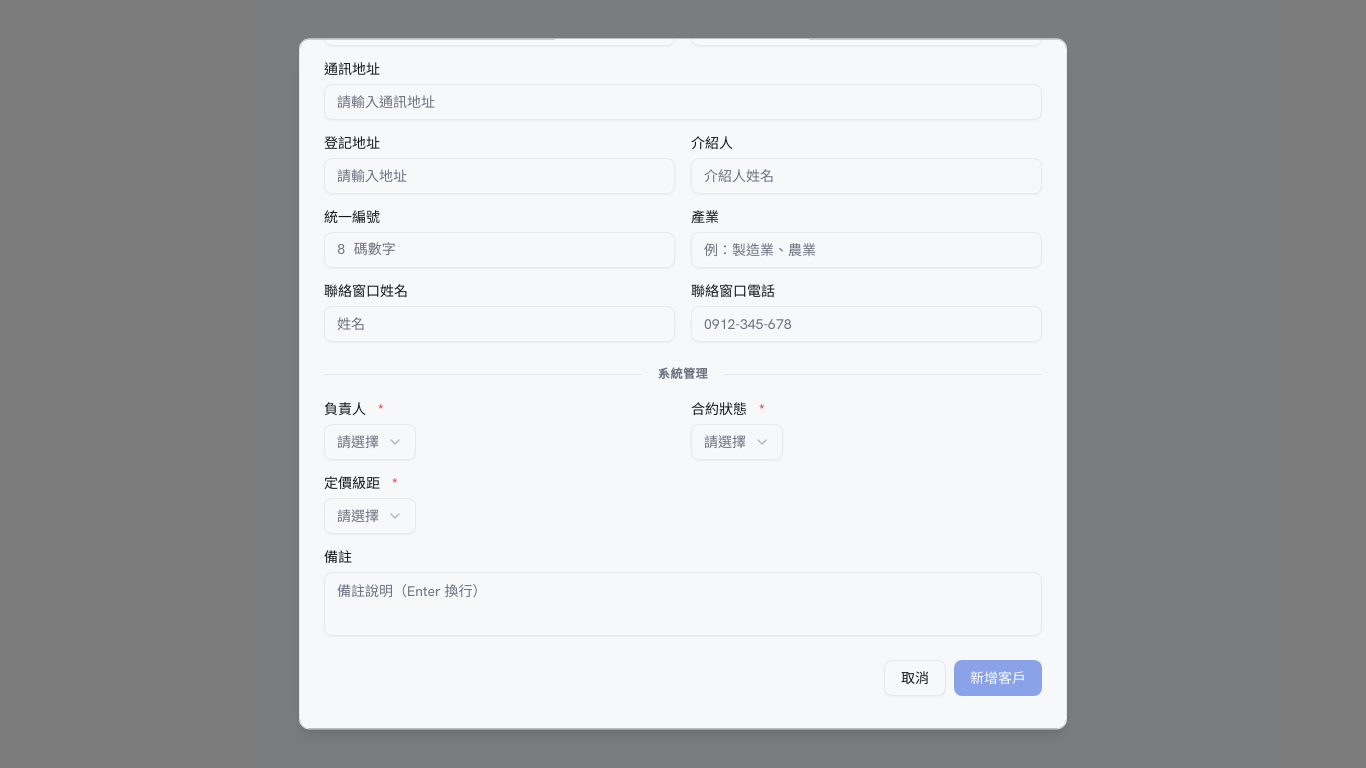
Test: CustomerModal 的必填判斷 › 剛開啟時四項必填全缺，tooltip 逐項列出
(page scrolled)
Hover over the element with test id "customer-modal-submit-wrap" at x=998, y=679, box 954,661 -> 1042,697
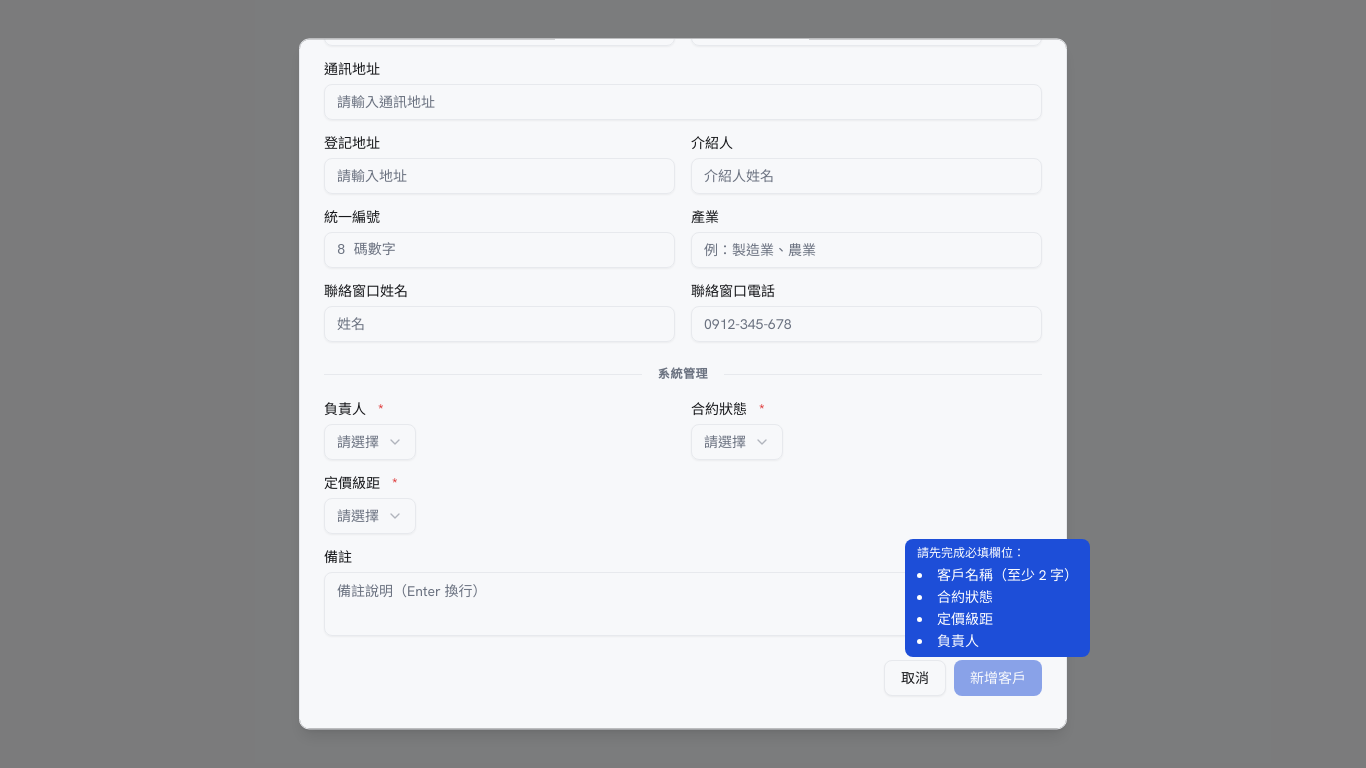
Expected: the tooltip shows "客戶名稱", 937,566 -> 1078,584
Expected: the tooltip shows "合約狀態", 937,588 -> 993,606
Expected: the tooltip shows "定價級距", 937,610 -> 993,628
